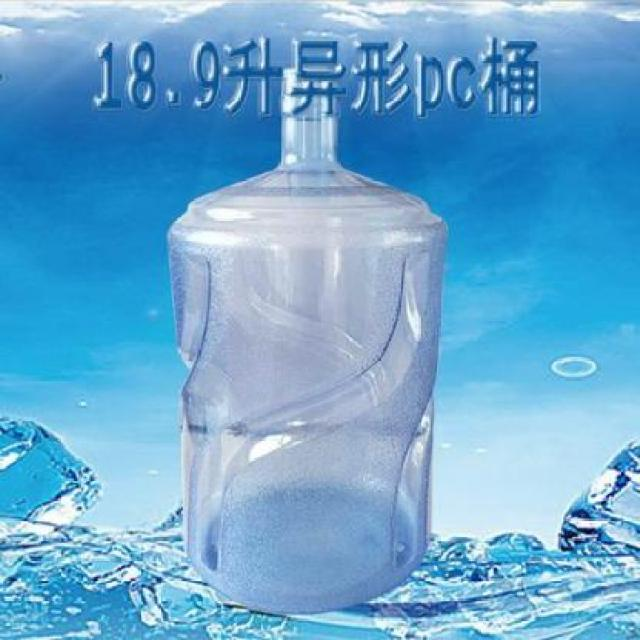coolerbottle: (166, 65, 449, 614)
